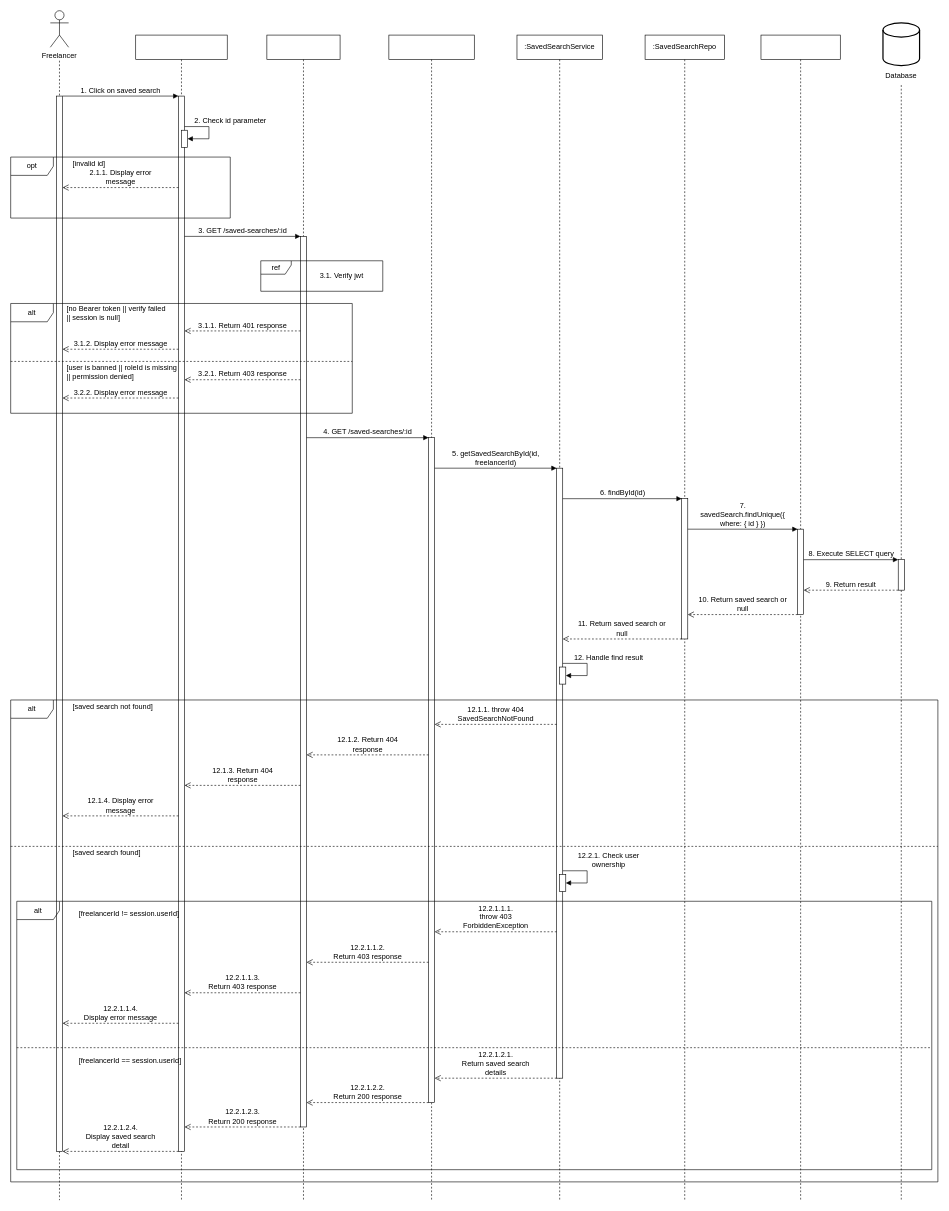
Image size: 949x1211. Some labels were removed from this diagram. The box of each missing label's shape, as (x1, y1, x2, y2) in pixels:
:PrismaService: (760, 34, 840, 1200)
:SavedSearchController: (388, 34, 474, 1200)
:SavedSearchPage: (135, 34, 227, 1200)
:SavedSearchRoute: (266, 34, 340, 1200)
